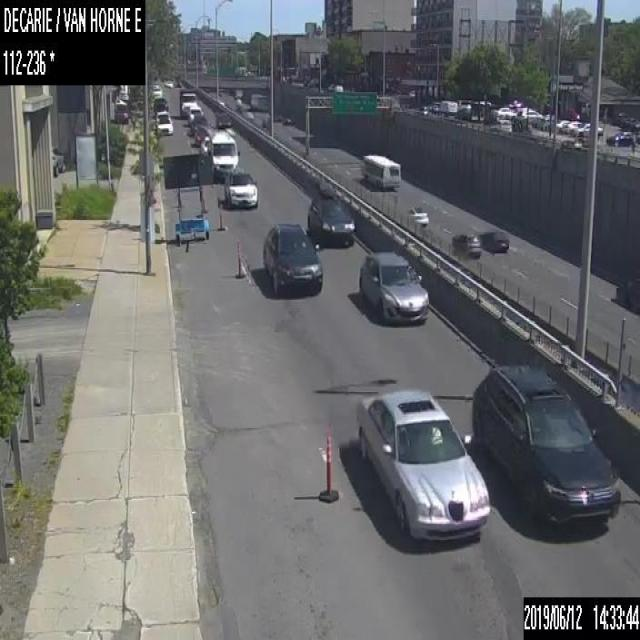bus: (361, 152, 400, 192)
construction: (163, 152, 208, 245), (317, 425, 340, 503), (233, 243, 245, 280), (216, 209, 226, 232)
vehicle: (471, 362, 620, 542), (355, 388, 488, 543), (357, 249, 428, 323), (260, 222, 323, 297), (307, 188, 355, 248), (208, 127, 238, 183), (225, 169, 257, 208), (614, 278, 639, 314), (450, 233, 480, 256), (481, 230, 508, 253), (178, 87, 198, 118), (406, 204, 429, 227), (154, 109, 173, 135), (574, 122, 603, 137), (606, 132, 632, 146), (193, 124, 209, 146), (190, 112, 206, 134), (187, 104, 203, 126), (516, 106, 541, 119), (250, 93, 268, 111), (437, 100, 457, 116), (152, 97, 168, 115), (215, 110, 230, 128), (562, 120, 581, 134), (555, 118, 569, 132), (492, 106, 508, 115), (200, 136, 208, 153), (152, 84, 160, 98), (243, 110, 254, 120), (234, 88, 242, 98), (282, 116, 290, 125), (333, 85, 343, 92), (164, 80, 172, 88), (173, 78, 181, 86)
